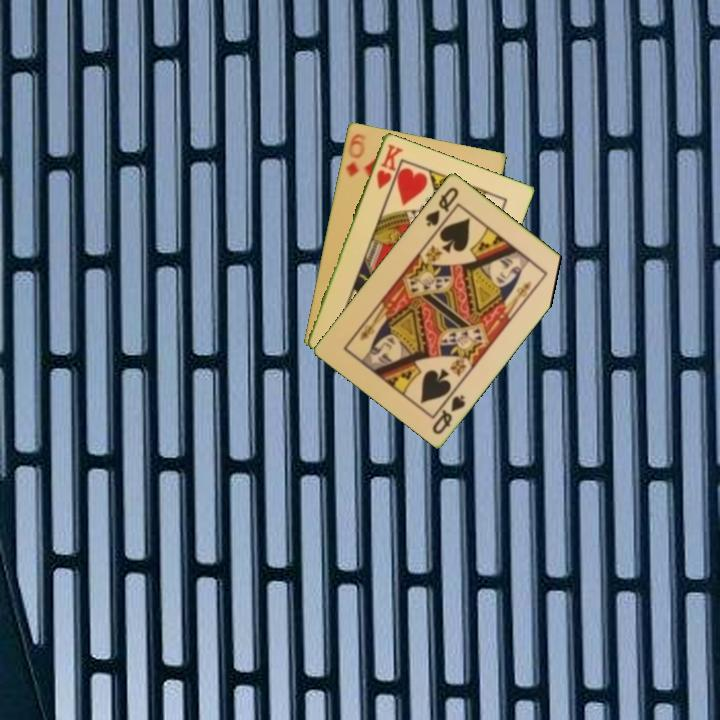6d: (342, 130, 368, 179)
Kh: (372, 140, 405, 192)
Qs: (428, 391, 468, 437), (422, 183, 461, 229)
